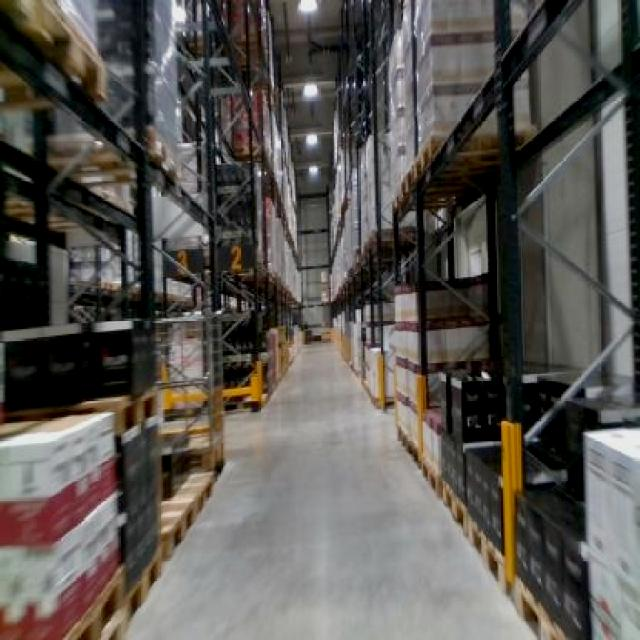pallets: (0, 411, 117, 637), (583, 426, 637, 637)
